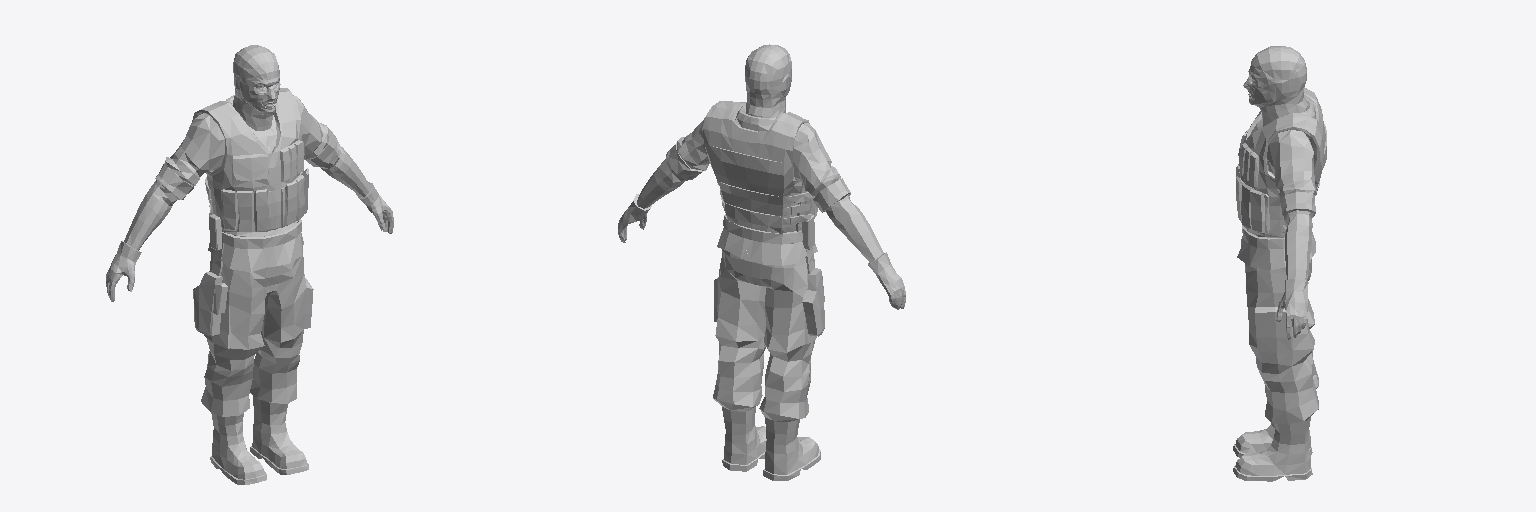
File: cstarget.obj
The picture shows the model from 3 angles: view 1: azimuth 30°, elevation 25°; view 2: azimuth 150°, elevation 25°; view 3: azimuth 270°, elevation 25°; orthographic projection.
Parts seen in each view (by area): view 1: t_phoenix_reference.smd, t_arctic_holster.smd; view 2: t_phoenix_reference.smd, t_arctic_holster.smd; view 3: t_phoenix_reference.smd.
Boxes of the visible parts, <box> form: t_phoenix_reference.smd: <box>106,45,393,484</box>; t_arctic_holster.smd: <box>193,272,227,336</box>; t_phoenix_reference.smd: <box>618,44,905,480</box>; t_arctic_holster.smd: <box>802,268,824,336</box>; t_phoenix_reference.smd: <box>1233,46,1326,481</box>.
Size of the model in its own units: 1.06 by 1.48 by 0.3059.